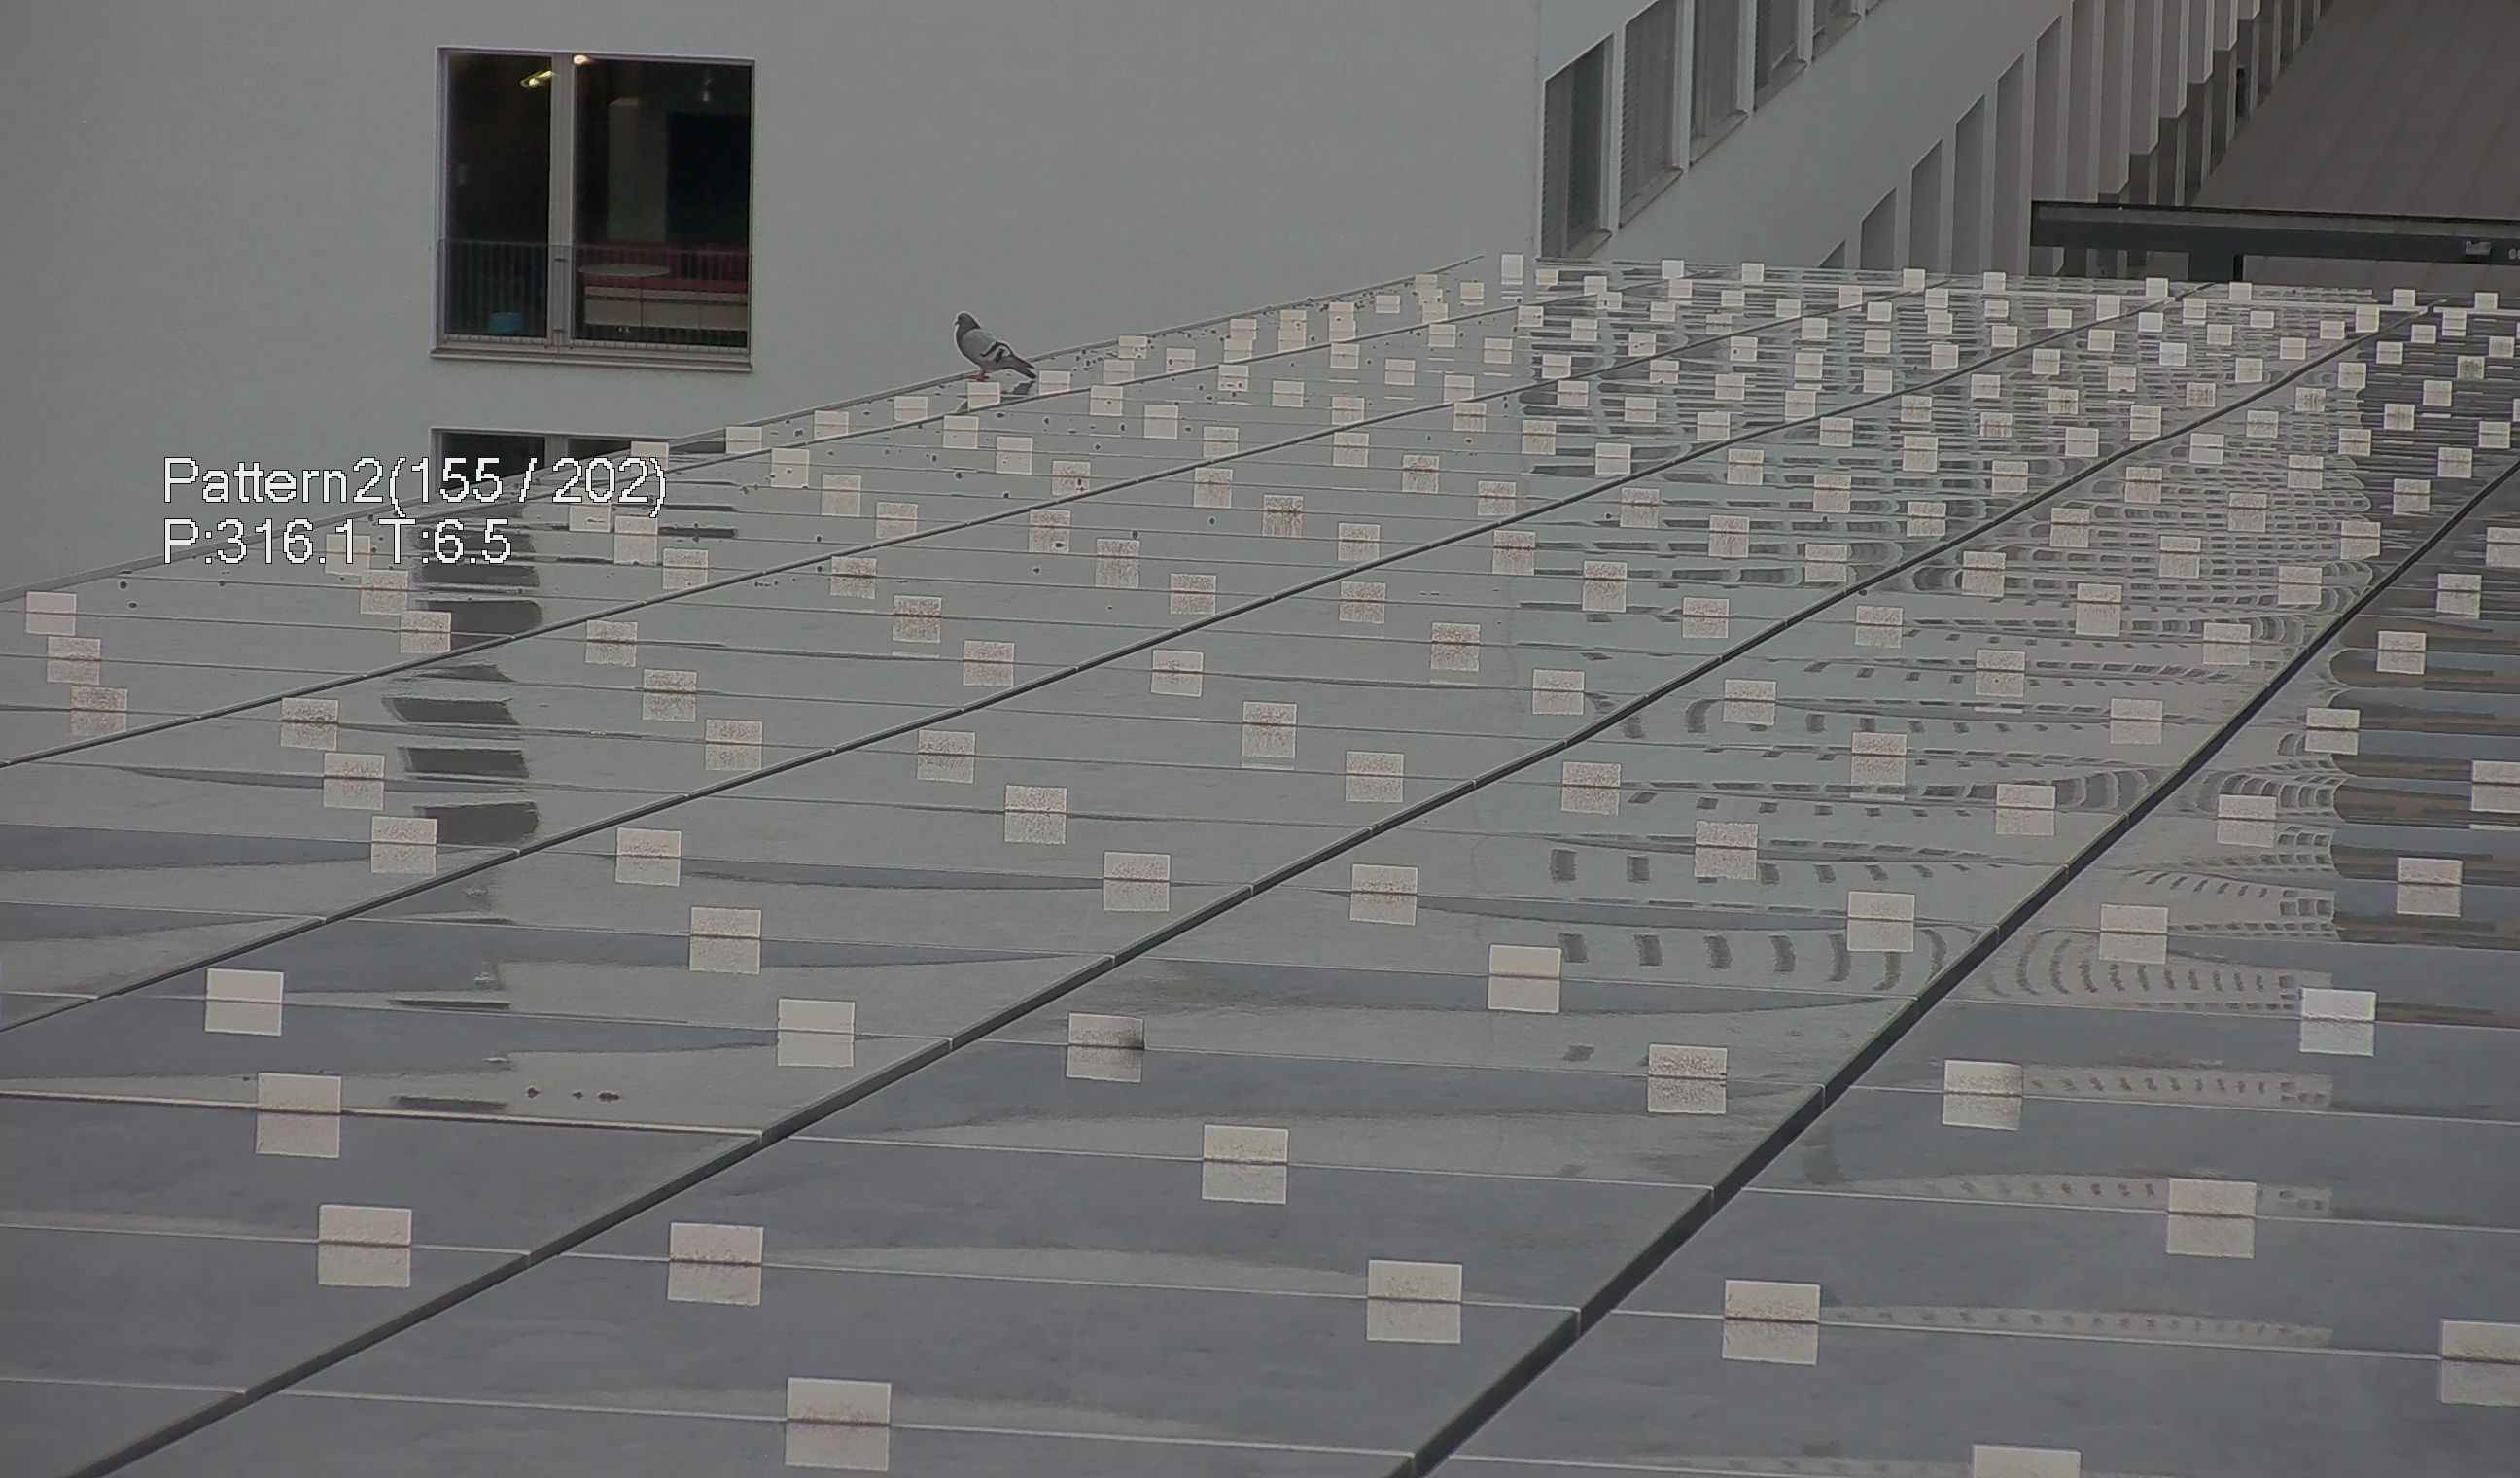Pigeon: (941, 296, 1046, 396)
